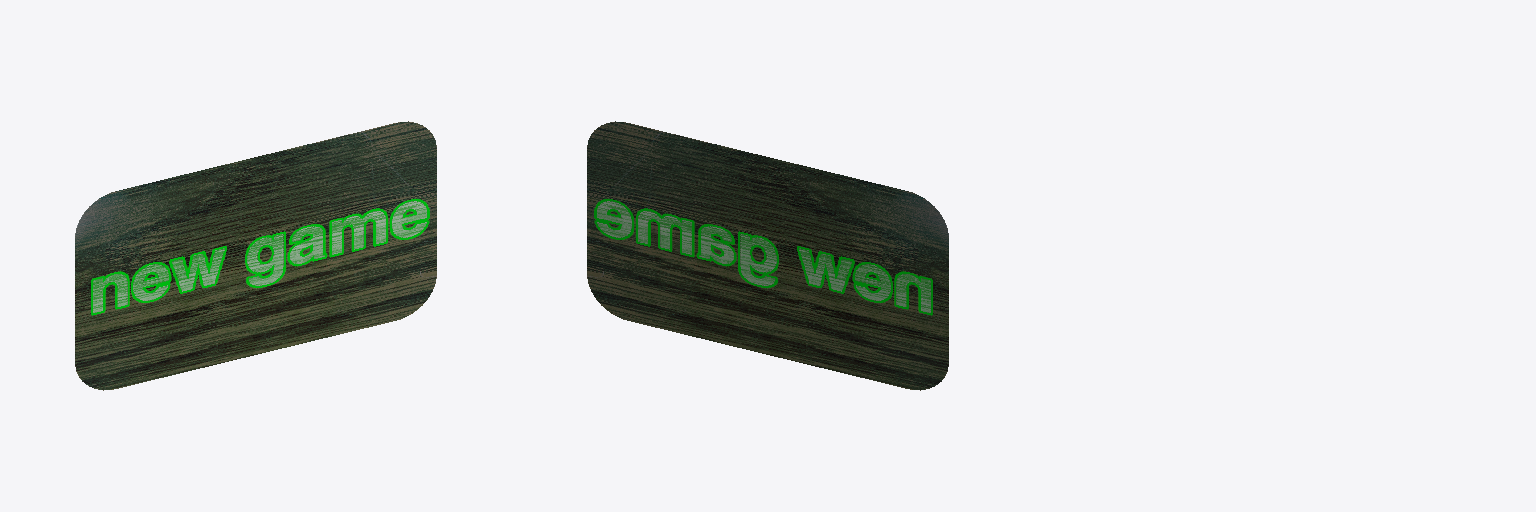
3 renders of one model, left to right at view 1: azimuth 30°, elevation 25°; view 2: azimuth 150°, elevation 25°; view 3: azimuth 270°, elevation 25°, orthographic.
Parts seen in each view (by area): view 1: Plane; view 2: Plane; view 3: none.
Part boxes in pixels (x1,y1,x2,y2): Plane: (75, 121, 436, 390); Plane: (587, 121, 948, 390).
Bounding box in the file's own units: 1.5 × 0.7828 × 0.
Materials: 1 (1 with a texture image).